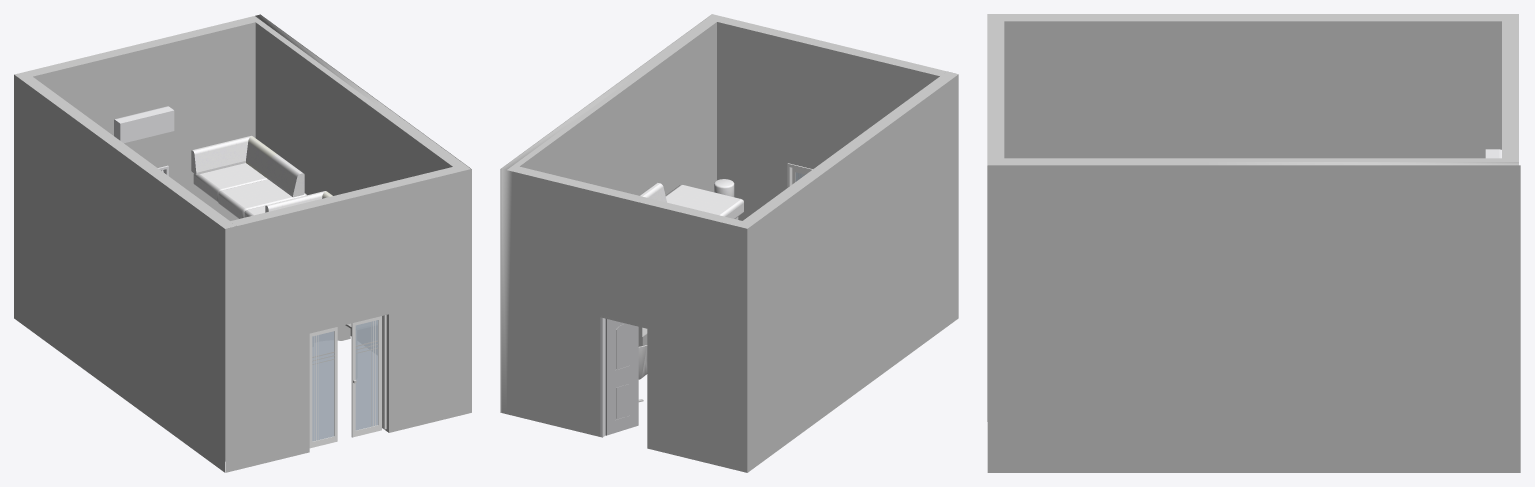
Rendered from room.glb.
3 renders of one model, left to right at view 1: azimuth 30°, elevation 25°; view 2: azimuth 150°, elevation 25°; view 3: azimuth 270°, elevation 25°, orthographic. The views are drawn at different scales.
Parts seen in each view (by area): view 1: room; view 2: room; view 3: room.
Boxes of the visible parts, x1,y1,x2,y2 form: room: (14, 14, 471, 472); room: (500, 14, 958, 472); room: (987, 14, 1520, 472).
Bounding box in the file's own units: 42.32 × 40.01 × 62.91.
26 materials, 5 textured.
